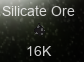Silicate: (1, 5, 76, 55)
